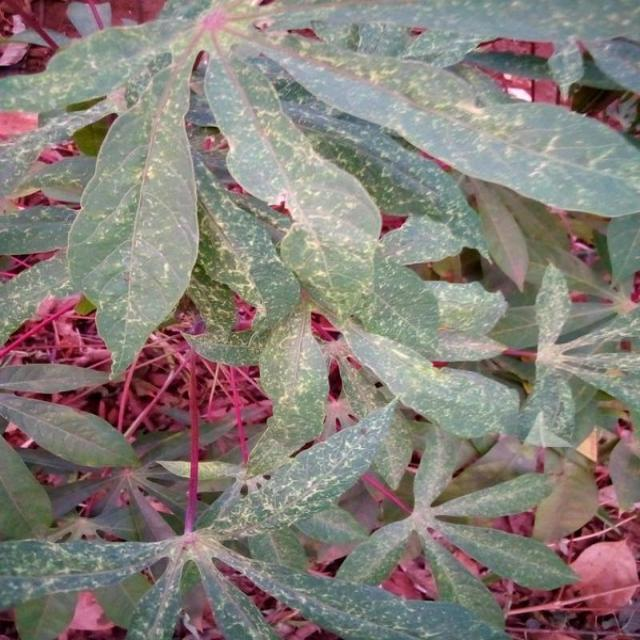cassava leaf: (1, 1, 638, 638), (66, 51, 200, 381)
